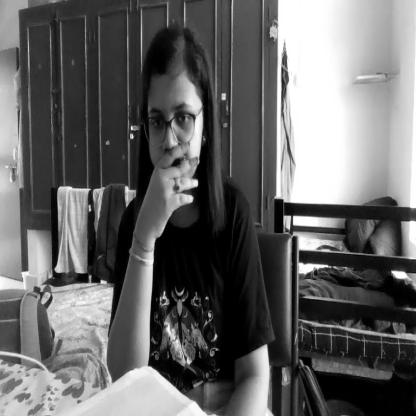Normal: (142, 27, 210, 197)
